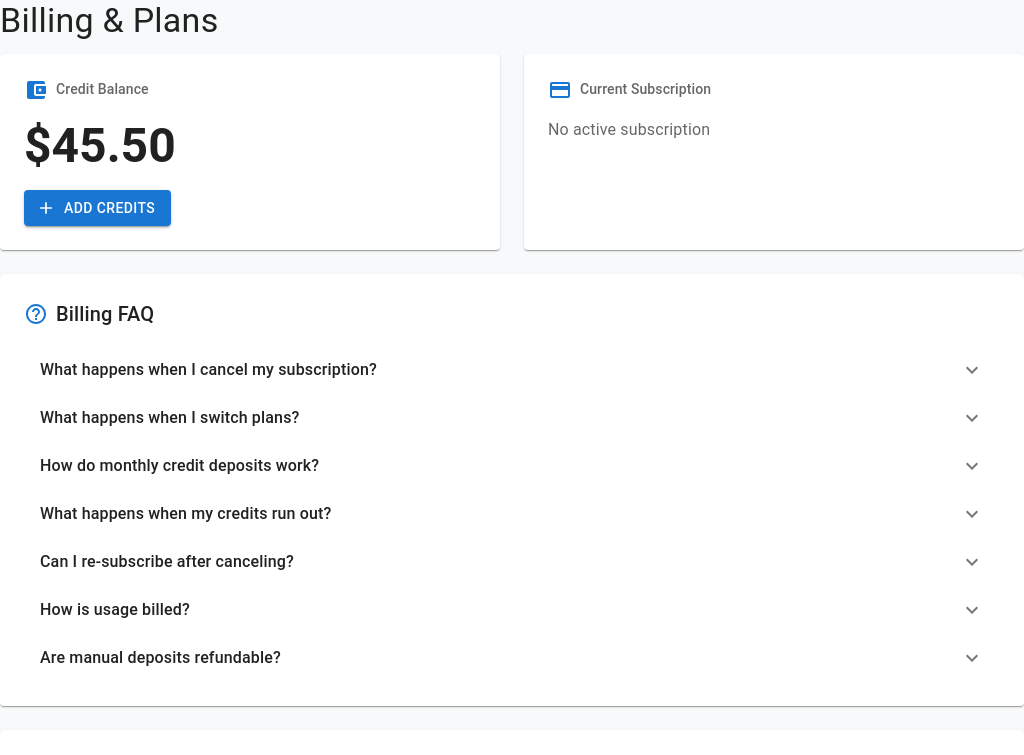
OrganizationBillingPage › Deposit Flow › deposit button opens dialog
Click the button "Add Credits" at (98,208), box [24,190,171,226]
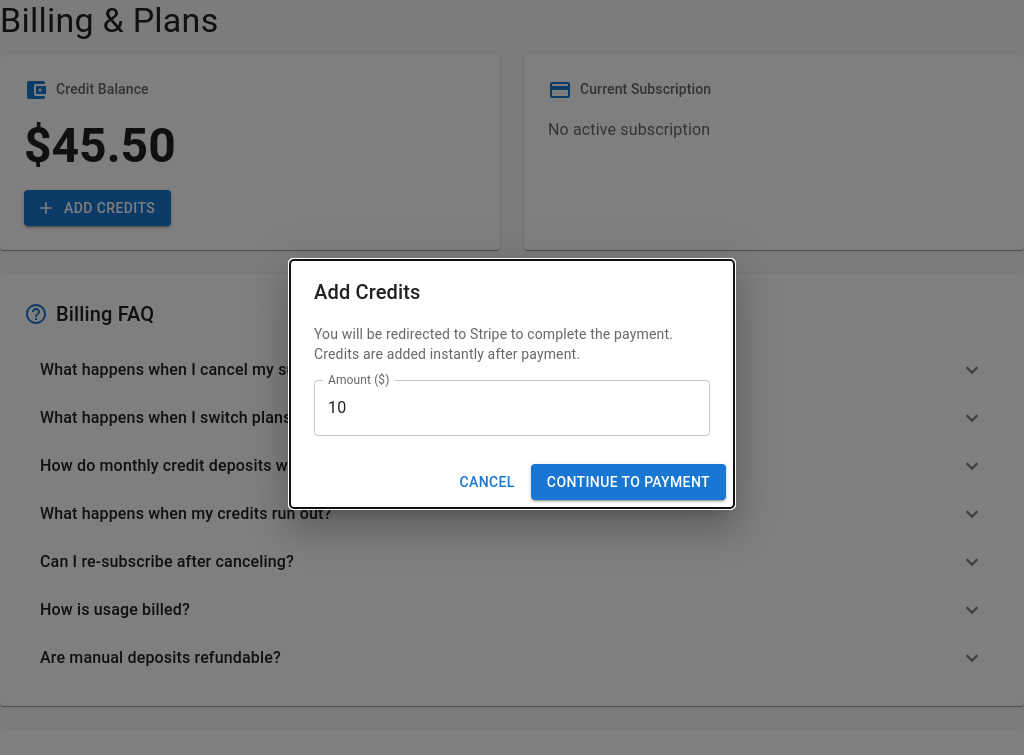
Check: the number field labelled "Amount ($)" is shown, box [314,380,710,436]
Check: the text "redirected to Stripe" is shown, box [314,326,673,362]
